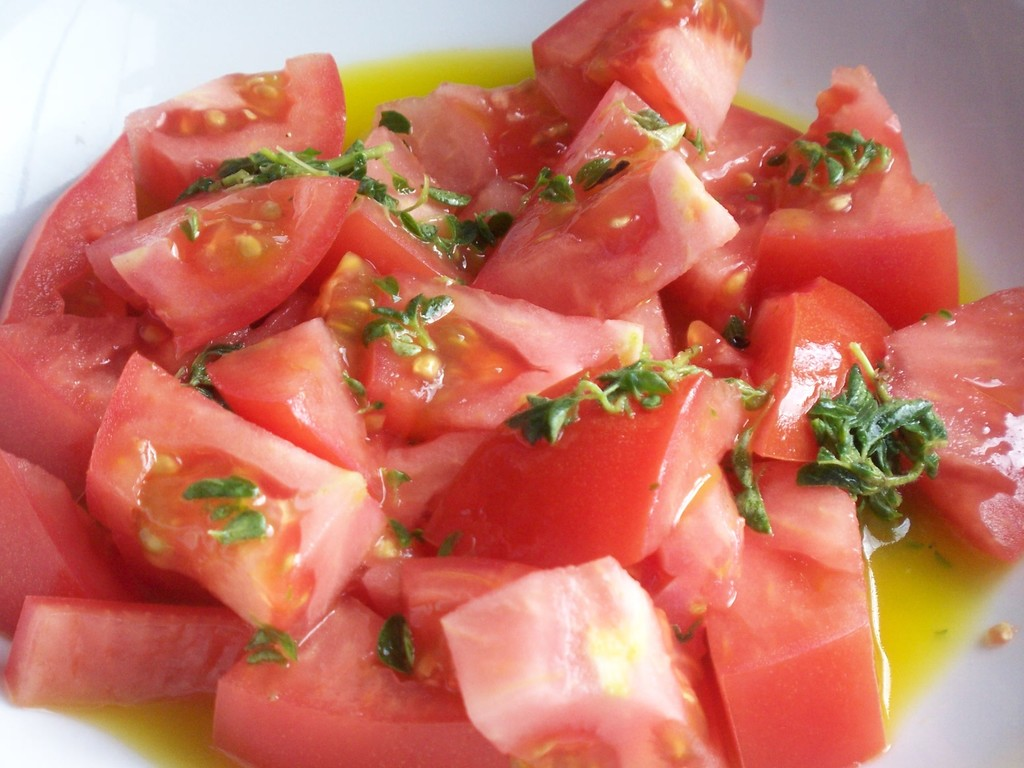salad: (1, 0, 1023, 767)
